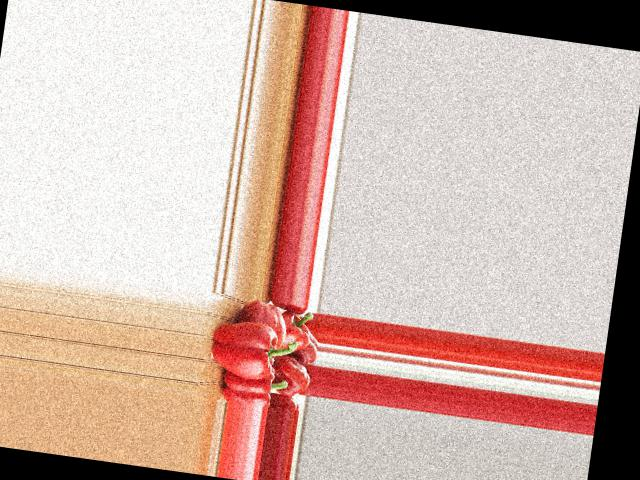bell_pepper: (275, 306, 315, 352)
